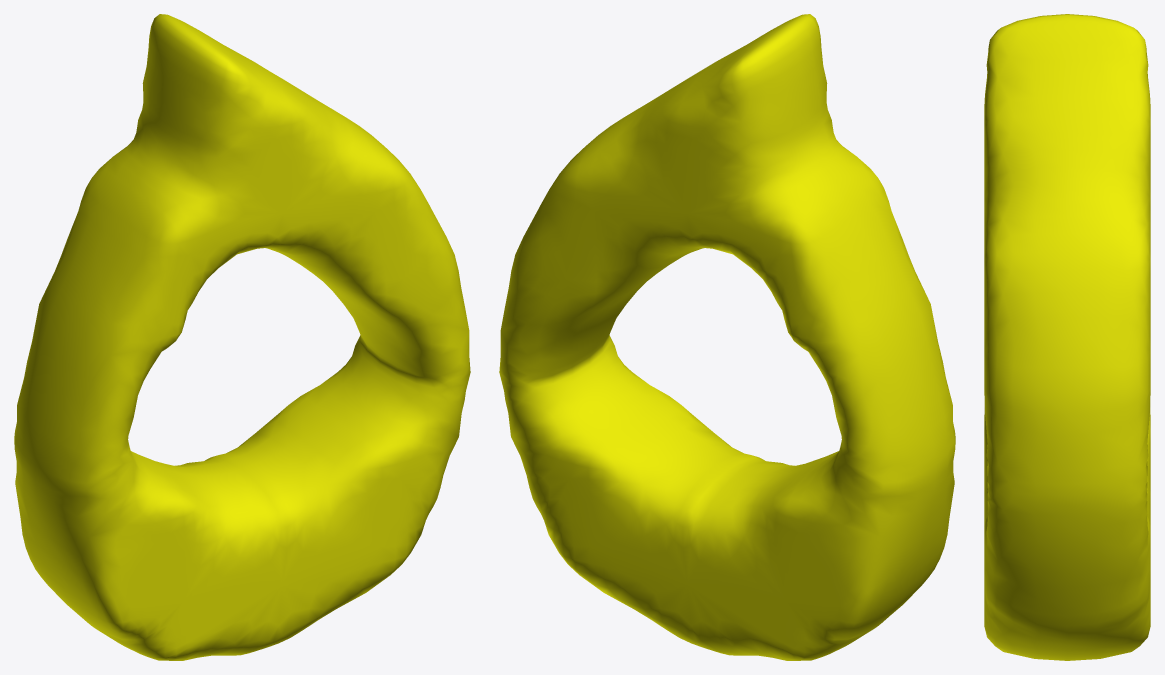
The picture shows the model from 3 angles, left to right: view 1: azimuth 30°, elevation 25°; view 2: azimuth 150°, elevation 25°; view 3: azimuth 270°, elevation 25°; orthographic projection.
Parts seen in each view (by area): view 1: char_1; view 2: char_1; view 3: char_1.
Boxes of the visible parts, x1,y1,x2,y2 form: char_1: (14, 14, 470, 660); char_1: (499, 14, 955, 660); char_1: (984, 14, 1150, 660).
Bounding box in the file's own units: 3.79 × 5.41 × 1.33.
